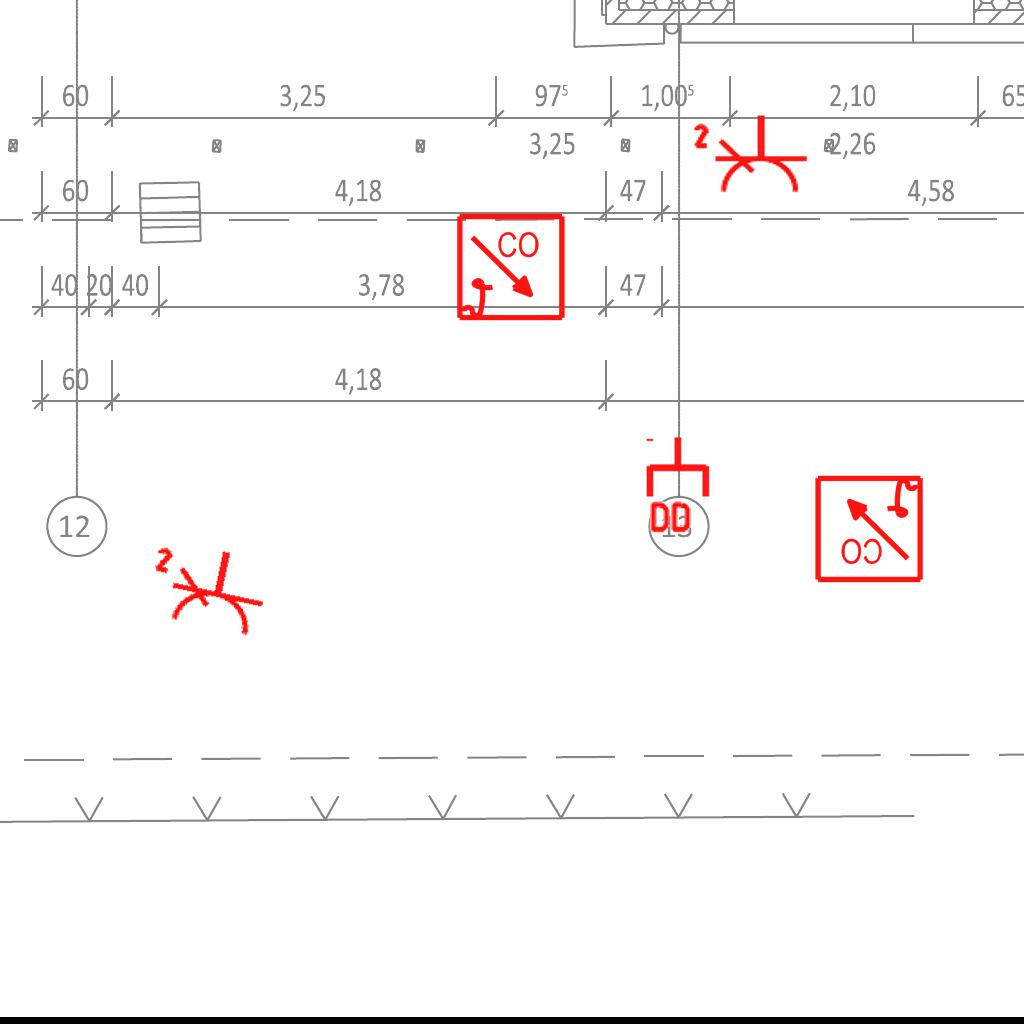Datenanschluss_zweifach: (645, 434, 714, 537)
ROA_Rauchmelder_optisch_mit_Signalgeber_(Sockelsirene): (455, 212, 568, 325), (812, 471, 925, 584)
Schukosteckdose_mehrfach: (141, 531, 278, 643), (691, 109, 812, 197)
